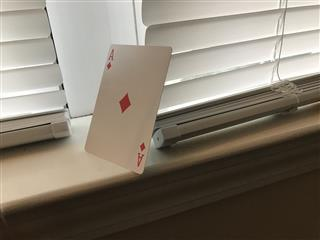AceOfDiamonds: (83, 44, 172, 175)
